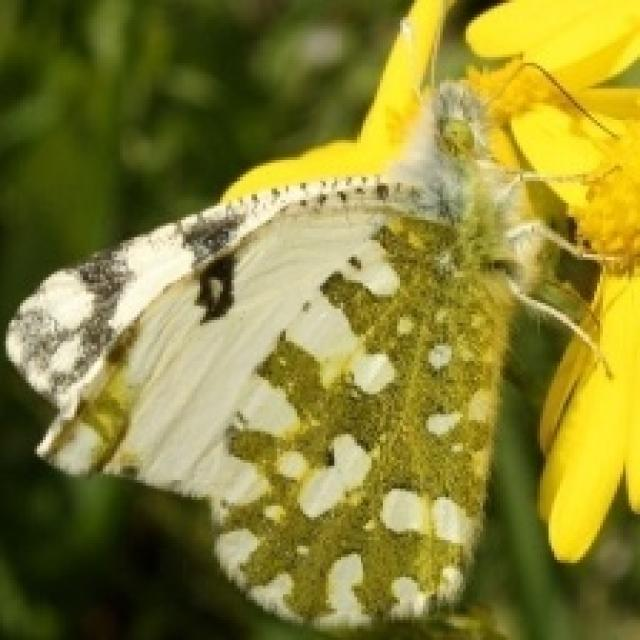butterfly: (0, 0, 623, 631)
